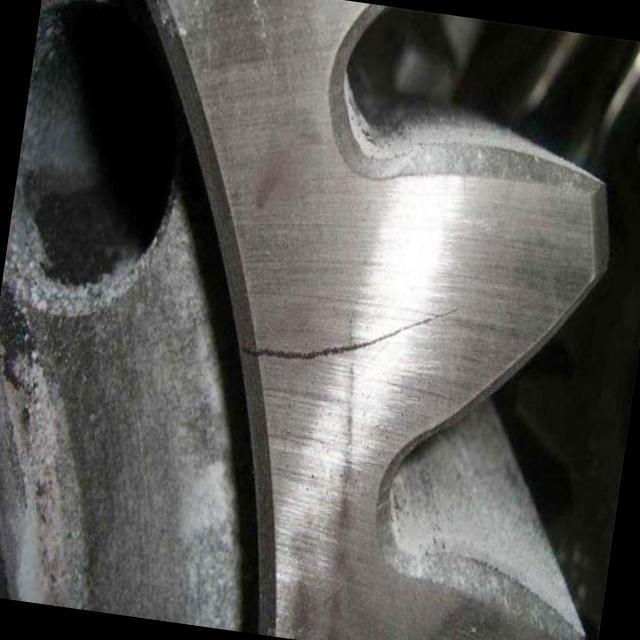defect: (236, 303, 465, 365)
